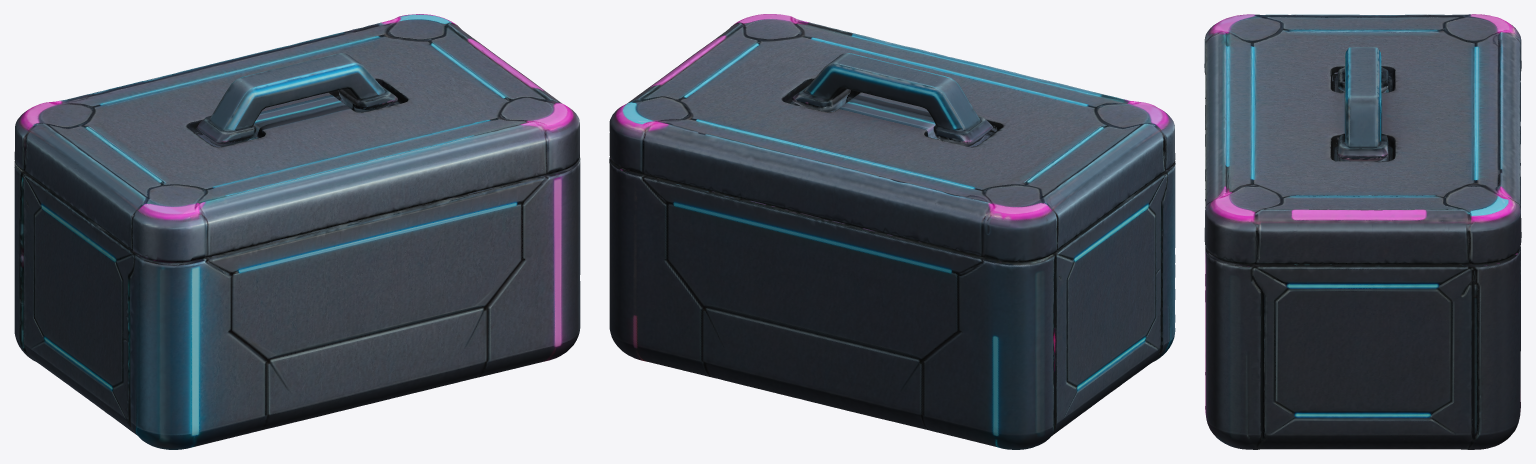
File: Box_Before.fbx
3 renders of one model, left to right at view 1: azimuth 30°, elevation 25°; view 2: azimuth 150°, elevation 25°; view 3: azimuth 270°, elevation 25°, orthographic.
Parts seen in each view (by area): view 1: texture_mapping; view 2: texture_mapping; view 3: texture_mapping.
Boxes of the visible parts, x1,y1,x2,y2 form: texture_mapping: (14,14,580,449); texture_mapping: (609,14,1175,449); texture_mapping: (1204,14,1521,449).
Size of the model in its own units: 0.9999 by 0.6236 by 0.6318.
Materials: 1 (1 with a texture image).
